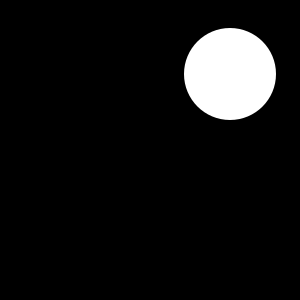rectangle: (184, 28, 276, 120)
